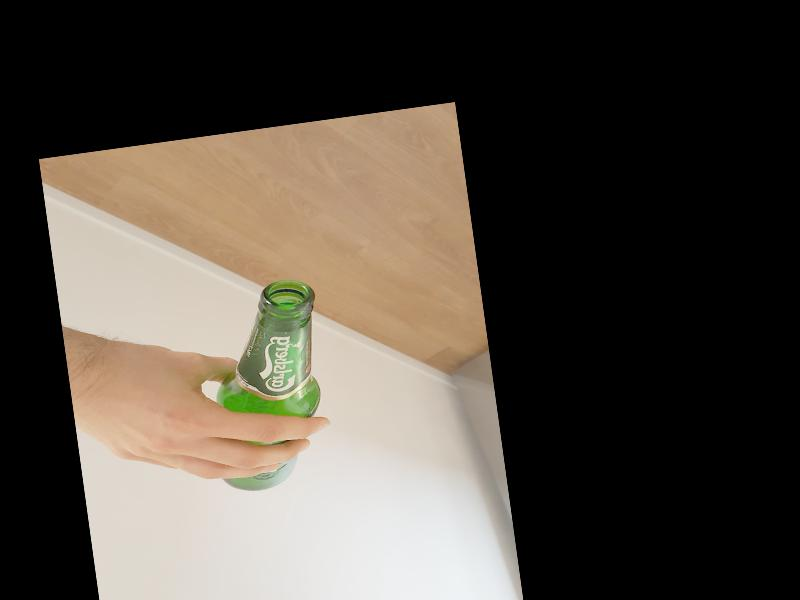Beer: (201, 275, 339, 493)
